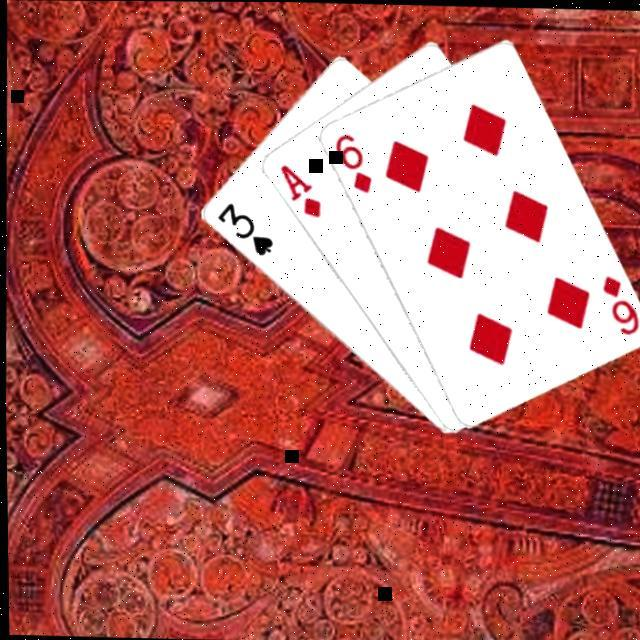3S: (210, 200, 274, 260)
6D: (328, 130, 373, 198), (594, 272, 639, 339)
AD: (272, 161, 322, 222)
